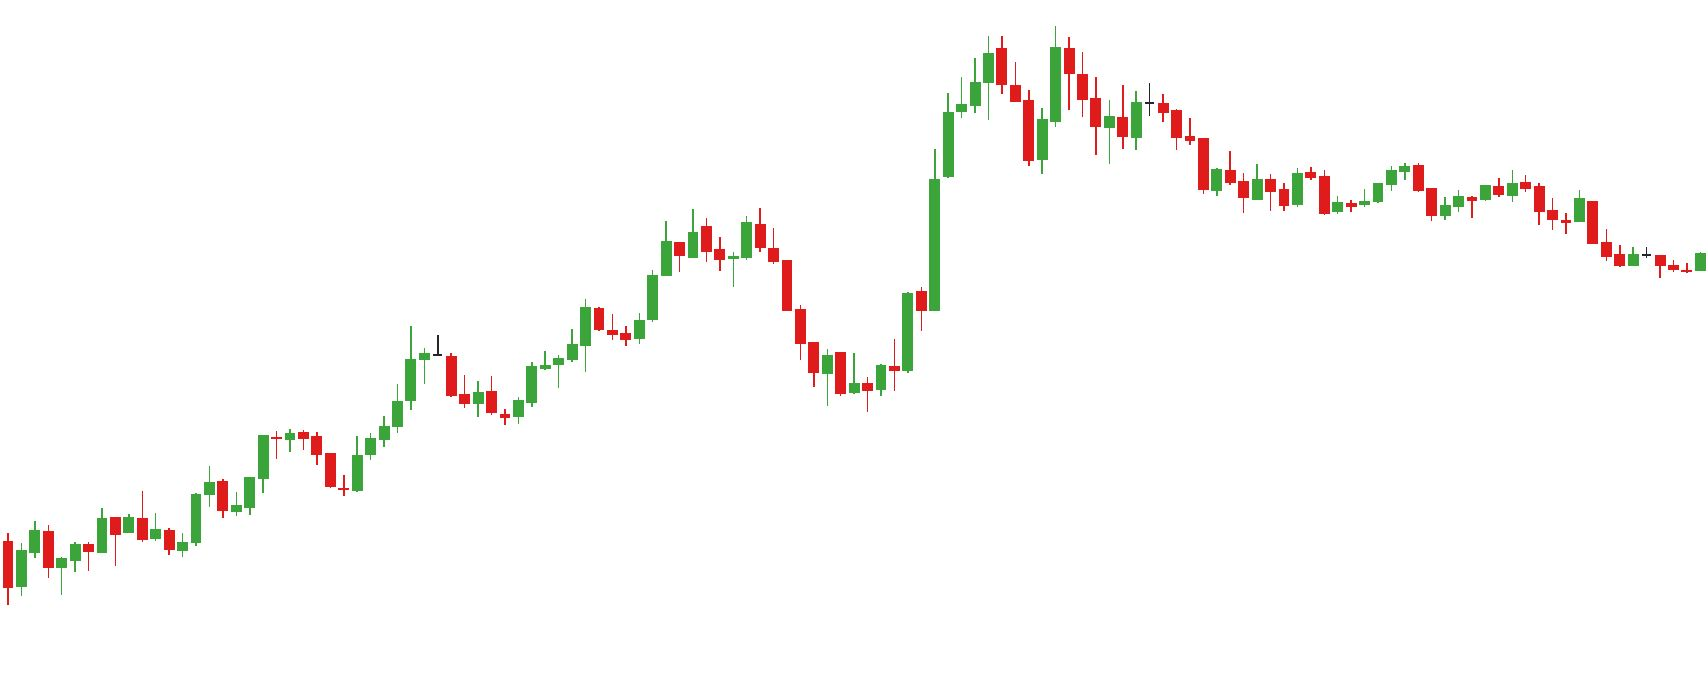buy: (551, 276, 834, 413)
sell: (983, 26, 1079, 124)
